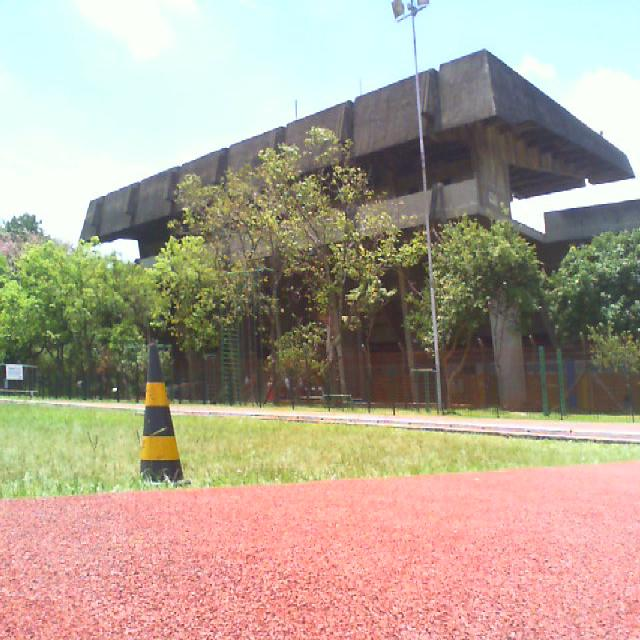cone: (137, 344, 189, 485)
